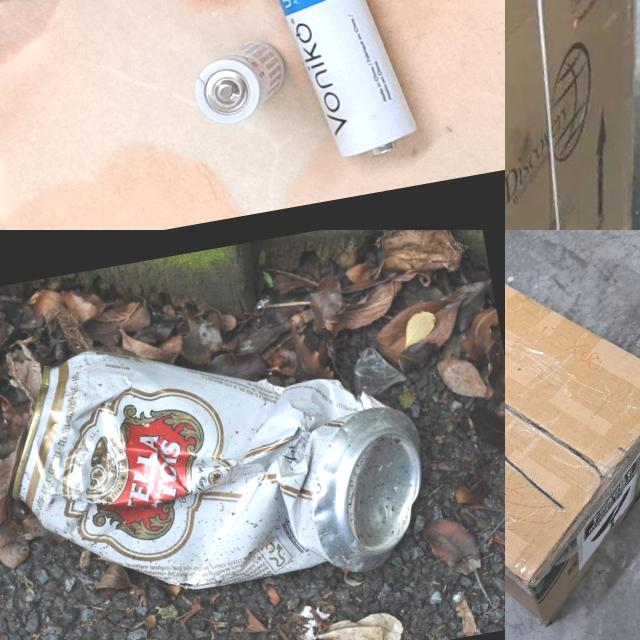bateria: (237, 0, 422, 171), (188, 34, 294, 128)
lata: (0, 296, 440, 629)
papelão: (505, 230, 640, 640), (505, 0, 640, 230)
